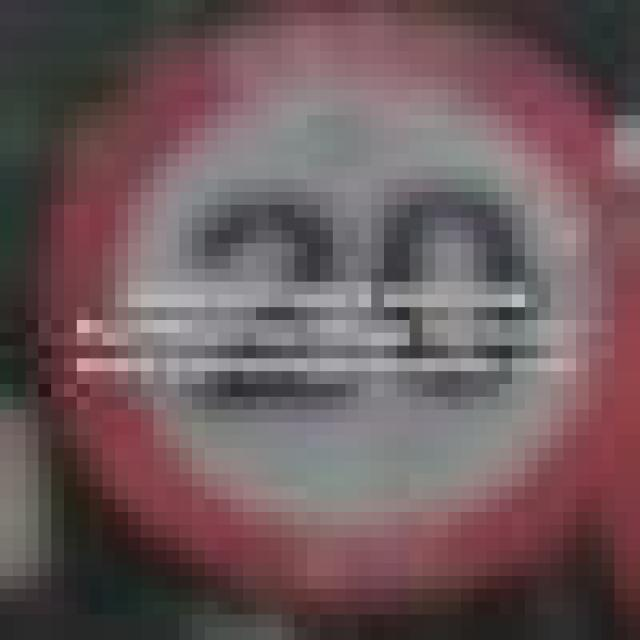SPEED_LIMIT_20: (38, 0, 640, 627)
